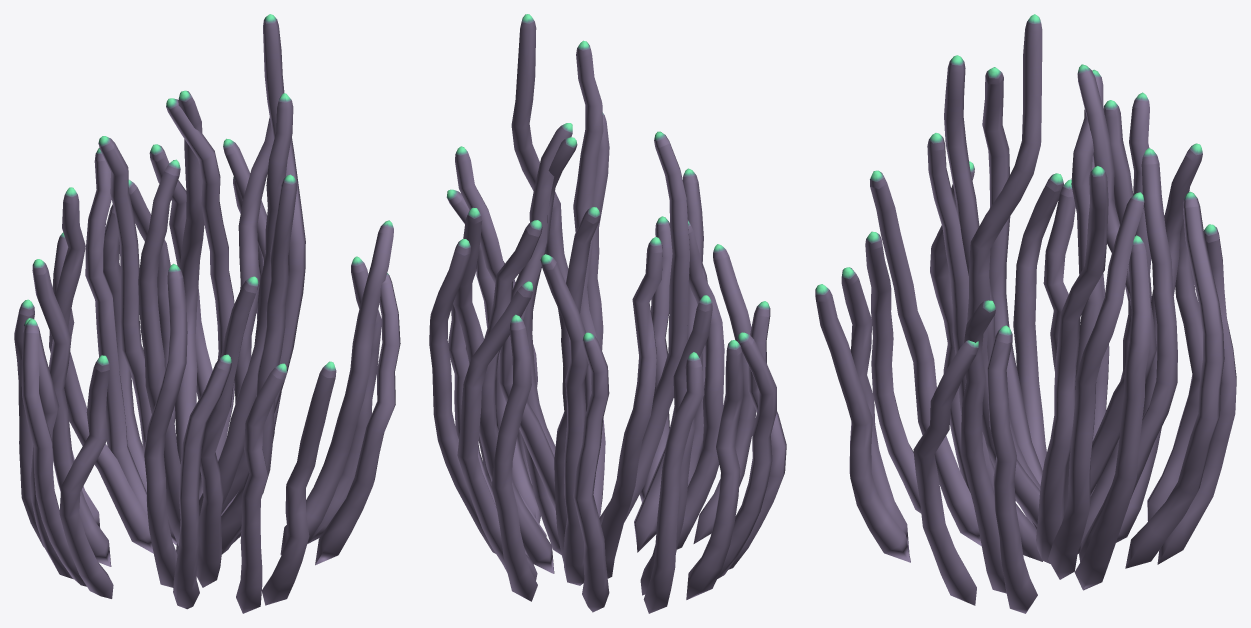
File: Torch03-transformed.glb
The picture shows the model from 3 angles, left to right: view 1: azimuth 30°, elevation 25°; view 2: azimuth 150°, elevation 25°; view 3: azimuth 270°, elevation 25°; orthographic projection. The views are drawn at different scales.
Parts seen in each view (by area): view 1: Torch03; view 2: Torch03; view 3: Torch03.
Part boxes in pixels (x1=…): Torch03: x1=14, y1=14, x2=400, y2=613; Torch03: x1=429, y1=14, x2=786, y2=613; Torch03: x1=815, y1=14, x2=1236, y2=613.
Bounding box in the file's own units: 2.72 × 3.98 × 2.61.
1 material, 1 textured.
